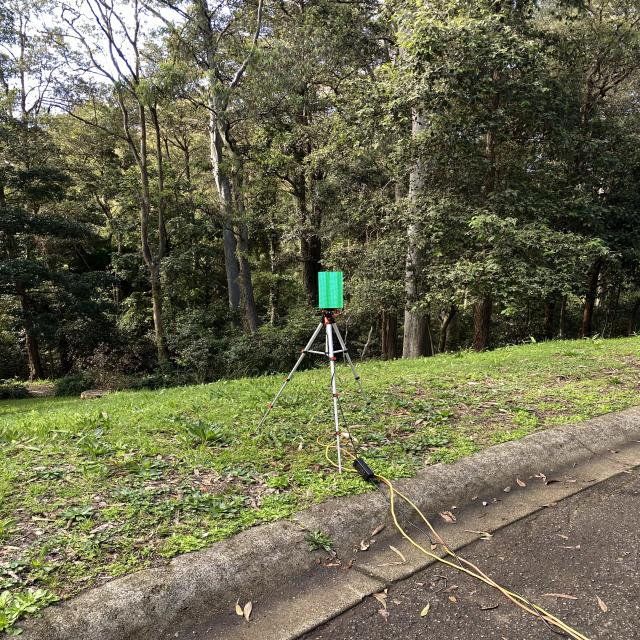matrix: (316, 268, 348, 312)
